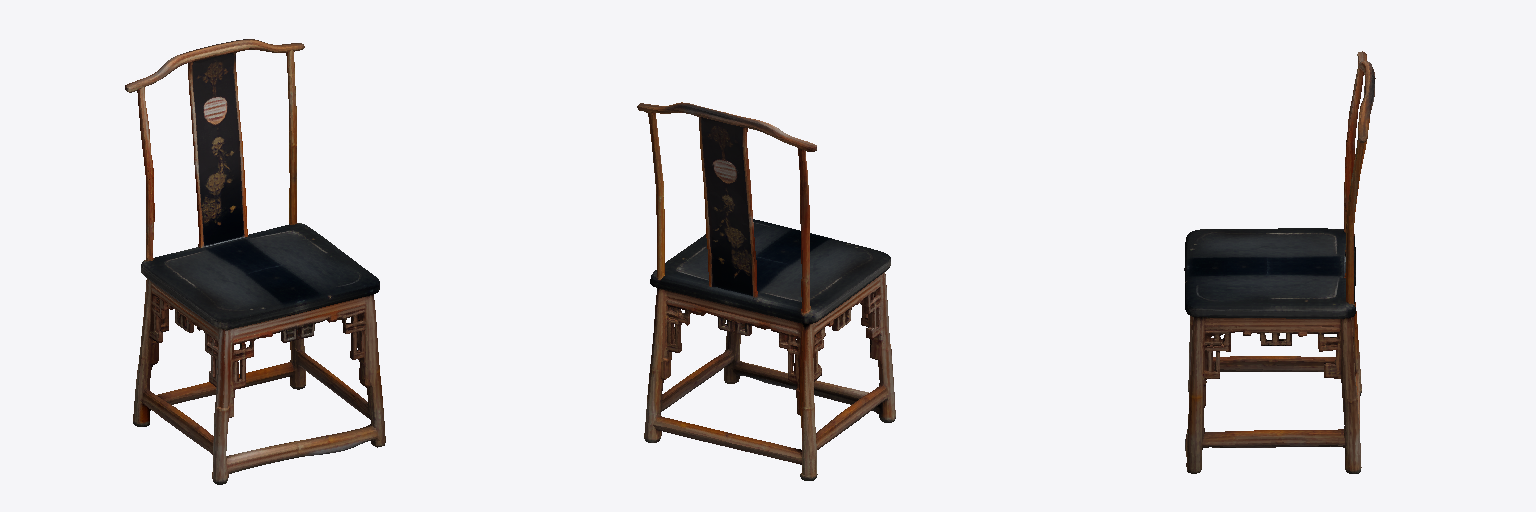
The picture shows the model from 3 angles: view 1: azimuth 30°, elevation 25°; view 2: azimuth 150°, elevation 25°; view 3: azimuth 270°, elevation 25°; orthographic projection.
Visible parts, largest first — view 1: geometry_0; view 2: geometry_0; view 3: geometry_0.
Boxes of the visible parts, <box> form: geometry_0: <box>125,39,385,484</box>; geometry_0: <box>637,102,895,480</box>; geometry_0: <box>1184,51,1375,473</box>.
Size of the model in its own units: 0.529 by 0.999 by 0.4896.
Materials: 1 (1 with a texture image).